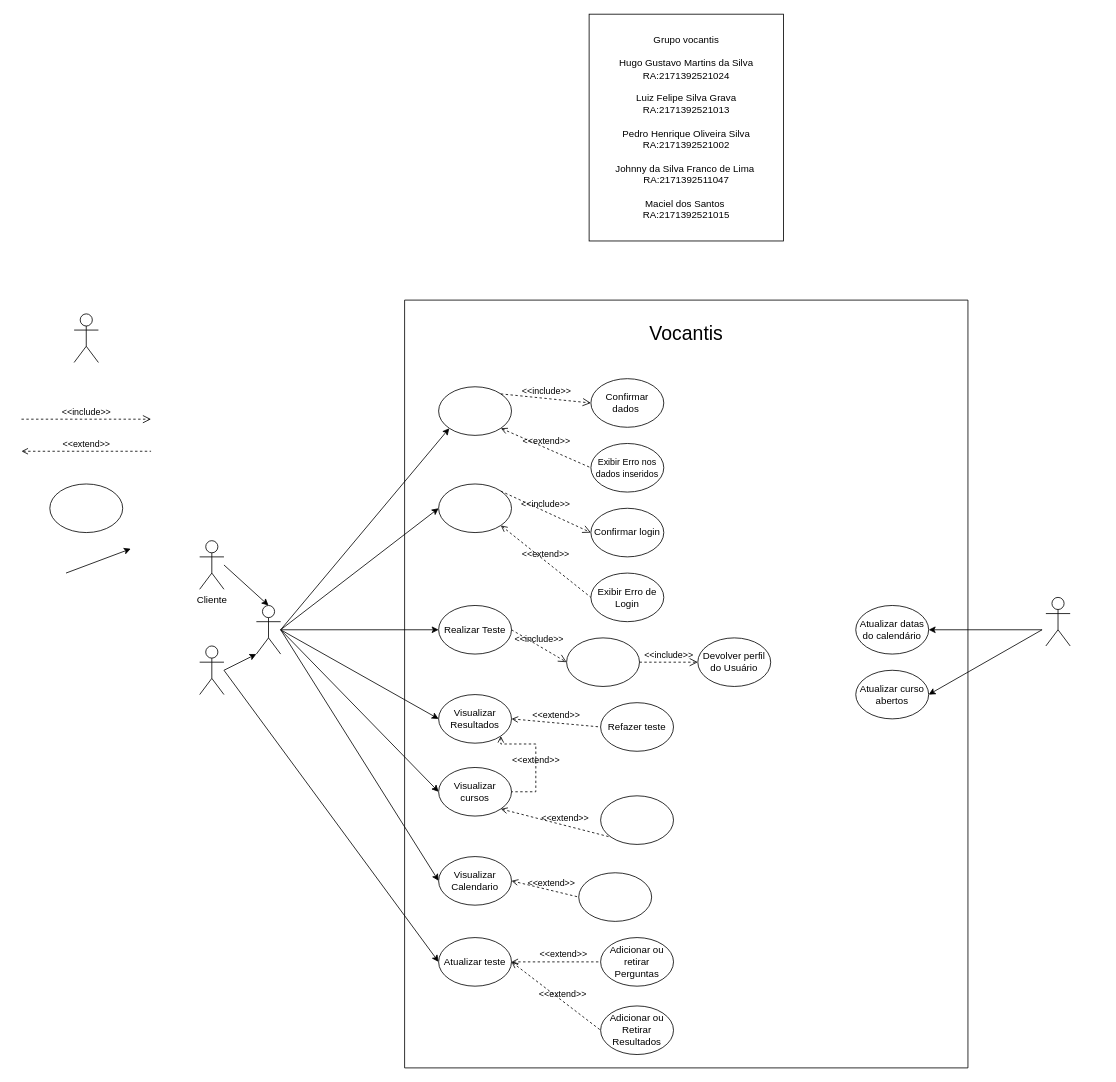
The diagram is 1116 pixels wide and 1082 high, and some of its shapes have lost their labels. Each missing label, with the box of its shape:
Actor: (73, 313, 98, 362)
Administrador: (199, 645, 224, 695)
Fazer Login: (438, 483, 512, 533)
Instituição de ensino: (1045, 597, 1070, 646)
Ir para o site da instituição de ensino: (578, 872, 652, 921)
Pesquisar cursos: (600, 795, 674, 844)
Processar respostas: (566, 637, 639, 686)
Realizar cadastro Cadastro: (438, 386, 512, 435)
Usuário: (256, 605, 281, 654)
